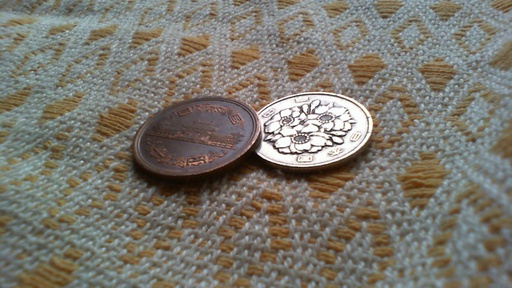100yen: (246, 92, 372, 172)
10yen: (133, 97, 261, 182)
